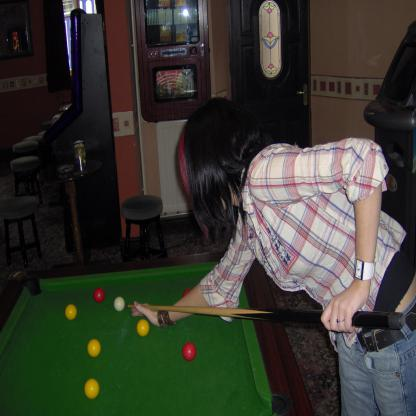Ball: (84, 379, 100, 398), (183, 343, 196, 360), (89, 340, 100, 357), (137, 319, 148, 335), (65, 306, 76, 320), (113, 298, 124, 309), (94, 290, 104, 302), (184, 289, 191, 296)
